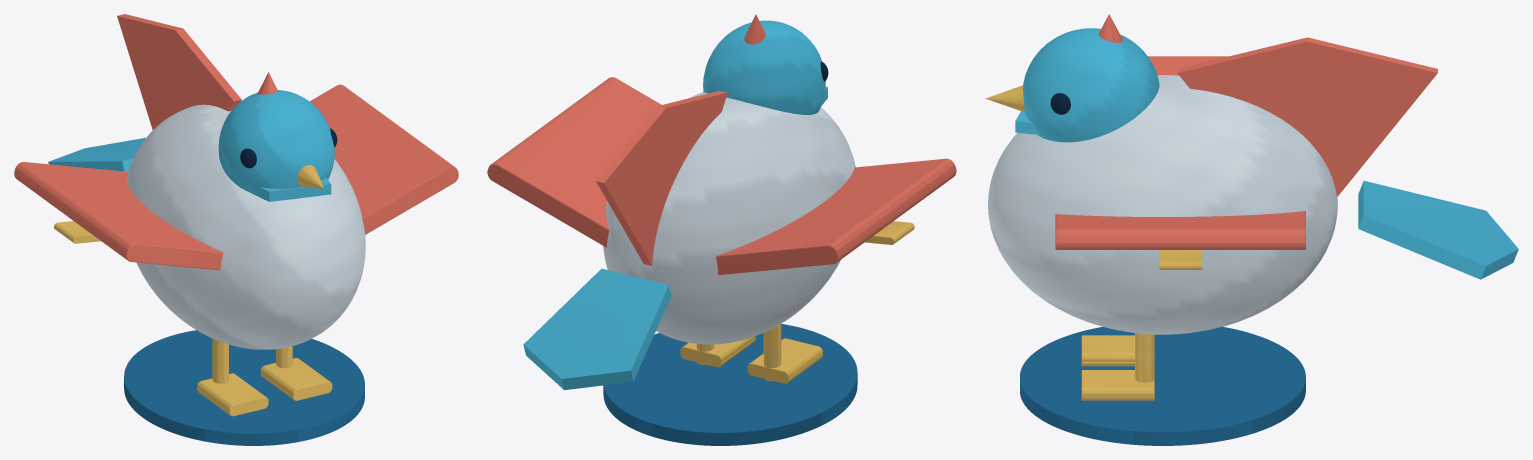
The model's file is 0071_鸟类图鉴_海鸦.glb.
3 views of the same model, side by side, from view 1: azimuth 30°, elevation 25°; view 2: azimuth 150°, elevation 25°; view 3: azimuth 270°, elevation 25° (orthographic). The views are drawn at different scales.
Parts seen in each view (by area): view 1: card_0071; view 2: card_0071; view 3: card_0071.
Part boxes in pixels (left/top/right/bottom): card_0071: left=14, top=14, right=458, bottom=445; card_0071: left=487, top=14, right=956, bottom=445; card_0071: left=985, top=14, right=1518, bottom=445.
Size of the model in its own units: 1.07 by 1 by 1.28.
